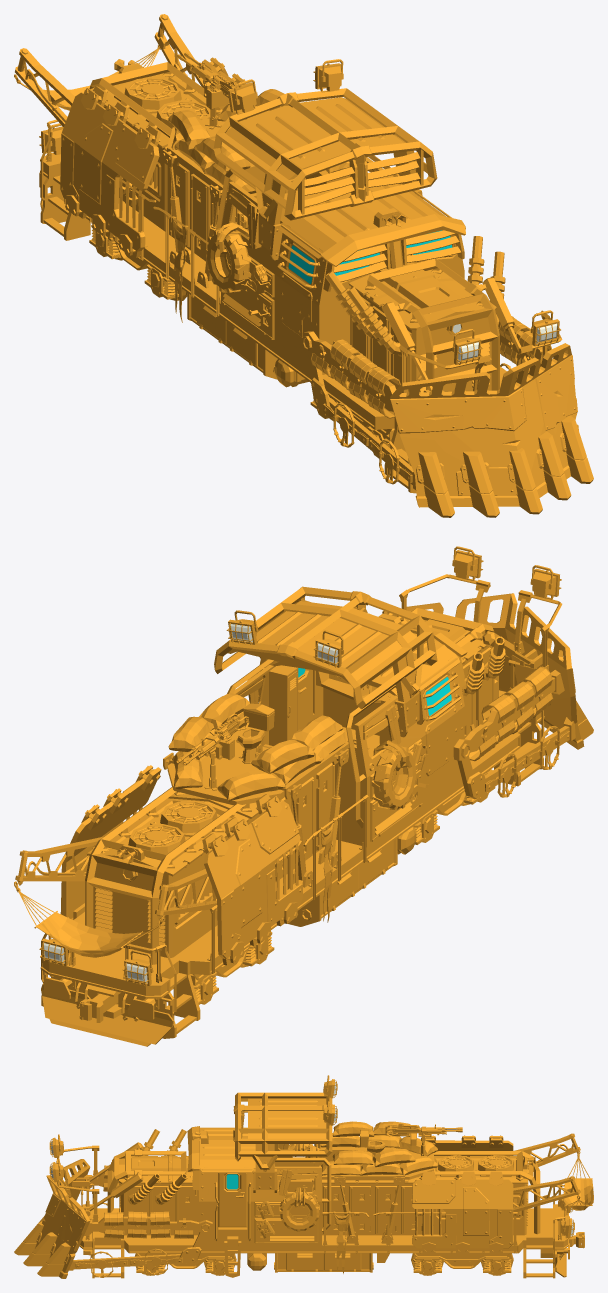
Rendered from SM_Train_Locomotive_Apocalypse.fbx.
The picture shows the model from 3 angles, top to bottom: view 1: azimuth 30°, elevation 25°; view 2: azimuth 150°, elevation 25°; view 3: azimuth 270°, elevation 25°; orthographic projection. The views are drawn at different scales.
Visible parts, largest first — view 1: SM_Train_Locomotive_Apocalypse_Base, SM_Train_Locomotive_Apocalypse_Base_Chassis_B; view 2: SM_Train_Locomotive_Apocalypse_Base, SM_Train_Locomotive_Apocalypse_Base_Chassis_B, SM_Train_Locomotive_Apocalypse_Base_Chassis_F, SM_Train_Locomotive_Apocalypse_Base_Door, SM_Train_Locomotive_Apocalypse_Base_Joint; view 3: SM_Train_Locomotive_Apocalypse_Base, SM_Train_Locomotive_Apocalypse_Base_Chassis_B, SM_Train_Locomotive_Apocalypse_Base_Door, SM_Train_Locomotive_Apocalypse_Base_Chassis_F.
Part boxes in pixels (box(x1,y1,x2,y2)): SM_Train_Locomotive_Apocalypse_Base: box(14, 14, 593, 517); SM_Train_Locomotive_Apocalypse_Base_Chassis_B: box(89, 224, 178, 299); SM_Train_Locomotive_Apocalypse_Base: box(14, 546, 593, 1046); SM_Train_Locomotive_Apocalypse_Base_Chassis_B: box(170, 931, 274, 1004); SM_Train_Locomotive_Apocalypse_Base_Chassis_F: box(413, 769, 495, 844); SM_Train_Locomotive_Apocalypse_Base_Door: box(298, 668, 314, 729); SM_Train_Locomotive_Apocalypse_Base_Joint: box(79, 993, 118, 1022); SM_Train_Locomotive_Apocalypse_Base: box(14, 1075, 593, 1278); SM_Train_Locomotive_Apocalypse_Base_Chassis_B: box(413, 1253, 511, 1275); SM_Train_Locomotive_Apocalypse_Base_Door: box(218, 1173, 247, 1227); SM_Train_Locomotive_Apocalypse_Base_Chassis_F: box(136, 1253, 234, 1275).
Size of the model in its own units: 3.97 by 5.57 by 16.74.
